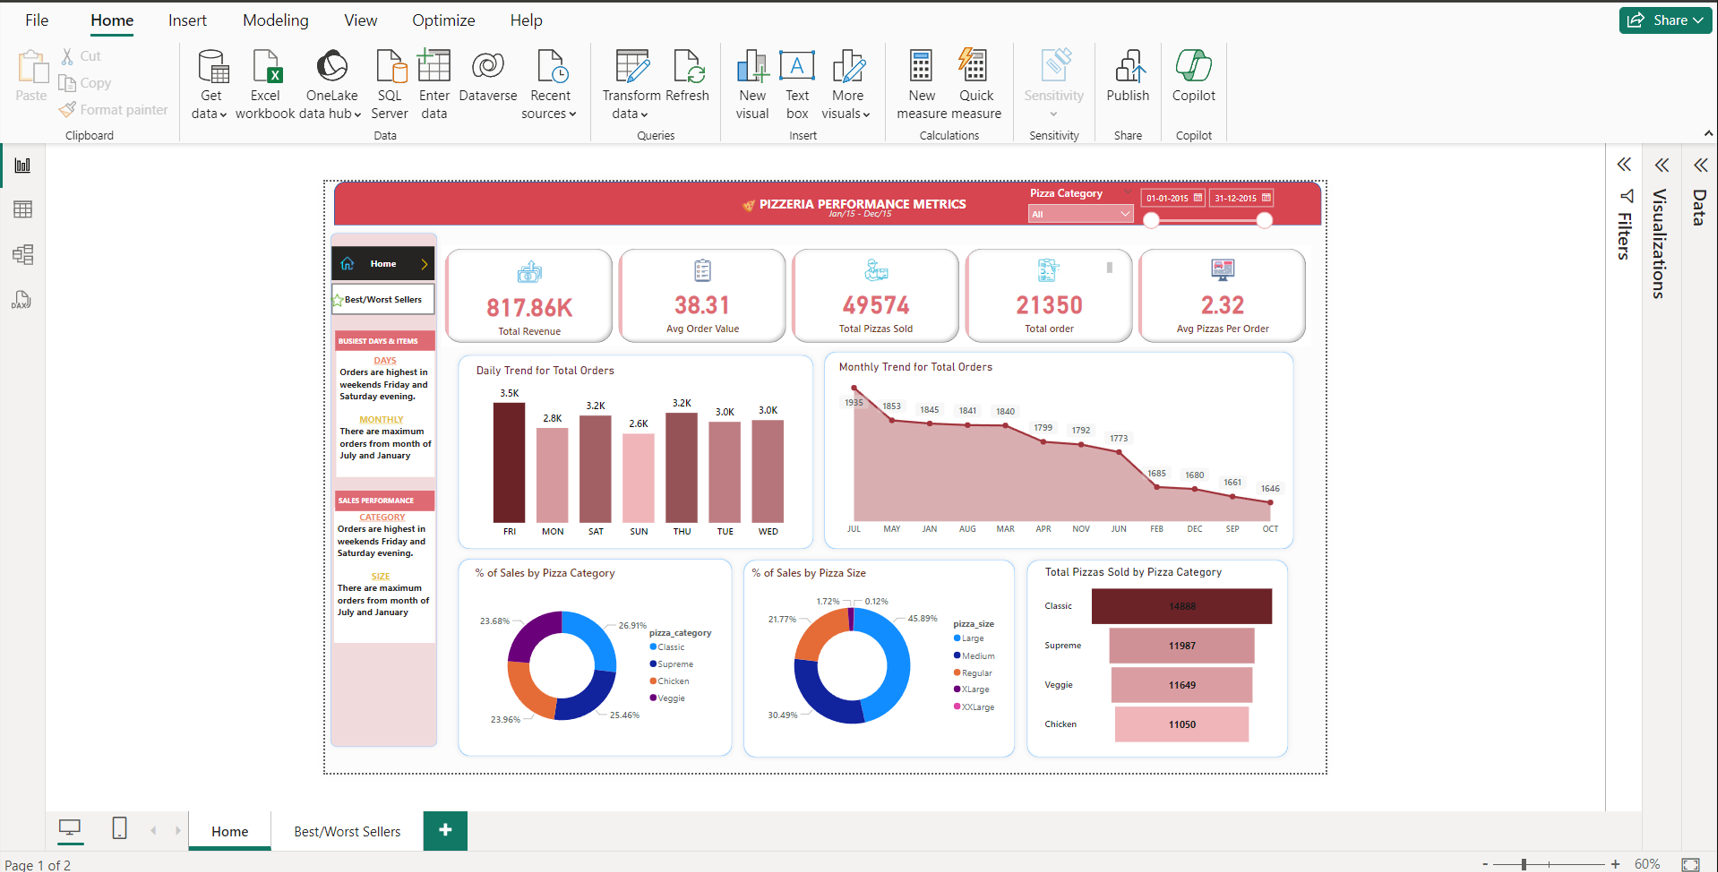

The dashboard page shown, as its layout file describes it:
{"tool":"powerbi","page":{"name":"Home","canvas":[1490,880],"ordinal":0},"visuals":[{"type":"shape","box":[0,68.8,175,781.2],"z":0},{"type":"cardVisual","fields":{"Data":["pizza_sales.Total Revenue","pizza_sales.Avg Order Value","pizza_sales.Total Pizzas Sold","pizza_sales.Total order","pizza_sales.Avg Pizzas Per Order"]},"box":[173.8,95,1295,150],"z":1000},{"type":"shape","box":[13,0,1470,65],"z":2000},{"type":"textbox","box":[956.7,115,220,30],"z":3000},{"type":"textbox","box":[745,32.5,165,48.8],"z":4000},{"type":"image","box":[570,21.2,120,30],"z":5000},{"type":"shape","box":[735,245,715,310],"z":6000},{"type":"areaChart","title":"Monthly Trend for Total Orders","fields":{"Category":["pizza_sales.Order Month"],"Y":["pizza_sales.Total order"]},"box":[760,265,675,270],"z":7000},{"type":"shape","box":[615,555,420,310],"z":8000},{"type":"shape","box":[1036.7,555,405,310],"z":9000},{"type":"donutChart","title":"% of Sales by Pizza Size","fields":{"Y":["pizza_sales.Total Revenue"],"Category":["pizza_sales.pizza_size"]},"box":[630,570,390,280],"z":10000},{"type":"funnel","title":"Total Pizzas Sold by Pizza Category","fields":{"Category":["pizza_sales.pizza_category"],"Y":["pizza_sales.Total Pizzas Sold"]},"box":[1066.7,570,353.3,280],"z":11000},{"type":"textbox","box":[641.2,15,378.8,36.2],"z":12000},{"type":"textbox","box":[15.7,221.4,148.6,30],"z":13000},{"type":"textbox","box":[13.3,485,150,201.7],"z":14000},{"type":"textbox","box":[15.8,251.7,146.7,188.3],"z":15000},{"type":"textbox","box":[14.2,459.2,148.3,30],"z":16000},{"type":"slicer","fields":{"Values":["pizza_sales.pizza_category"]},"box":[1036,0,177,65],"z":17000},{"type":"slicer","fields":{"Values":["pizza_sales.order_date"]},"box":[1202,0,218,96],"z":18000},{"type":"shape","box":[190,554,424,310],"z":19000},{"type":"donutChart","title":"% of Sales by Pizza Category","fields":{"Category":["pizza_sales.pizza_category"],"Y":["pizza_sales.Total Revenue"]},"box":[218,570,378,280],"z":20000},{"type":"shape","box":[190,250,545,305],"z":21000},{"type":"columnChart","title":"Daily Trend for Total Orders","fields":{"Category":["pizza_sales.Order Day"],"Y":["pizza_sales.Total order"]},"box":[220,270,495,270],"z":22000},{"type":"pageNavigator","box":[10,96.7,153.3,50],"z":23000},{"type":"pageNavigator","box":[10,151.7,153.3,46.7],"z":24000},{"type":"image","box":[16.7,106.7,33.3,30],"z":25000},{"type":"image","box":[133.3,110,30,26.7],"z":26000},{"type":"image","box":[0,161.7,36.7,30],"z":27000}]}

Visuals, with their boxes on the page's 1490x880 design canvas (x1, y1, x2, y2). These are canvas units, not pixel positions in the 1718x872 screenshot, which may show the page scaled, cropped or inside an application window:
shape: 0:69:175:850
cardVisual - pizza_sales.Total Revenue x pizza_sales.Avg Order Value: 174:95:1469:245
shape: 13:0:1483:65
textbox: 957:115:1177:145
textbox: 745:32:910:81
image: 570:21:690:51
shape: 735:245:1450:555
"Monthly Trend for Total Orders" areaChart: 760:265:1435:535
shape: 615:555:1035:865
shape: 1037:555:1442:865
"% of Sales by Pizza Size" donutChart: 630:570:1020:850
"Total Pizzas Sold by Pizza Category" funnel: 1067:570:1420:850
textbox: 641:15:1020:51
textbox: 16:221:164:251
textbox: 13:485:163:687
textbox: 16:252:162:440
textbox: 14:459:162:489
slicer - pizza_sales.pizza_category: 1036:0:1213:65
slicer - pizza_sales.order_date: 1202:0:1420:96
shape: 190:554:614:864
"% of Sales by Pizza Category" donutChart: 218:570:596:850
shape: 190:250:735:555
"Daily Trend for Total Orders" columnChart: 220:270:715:540
pageNavigator: 10:97:163:147
pageNavigator: 10:152:163:198
image: 17:107:50:137
image: 133:110:163:137
image: 0:162:37:192
